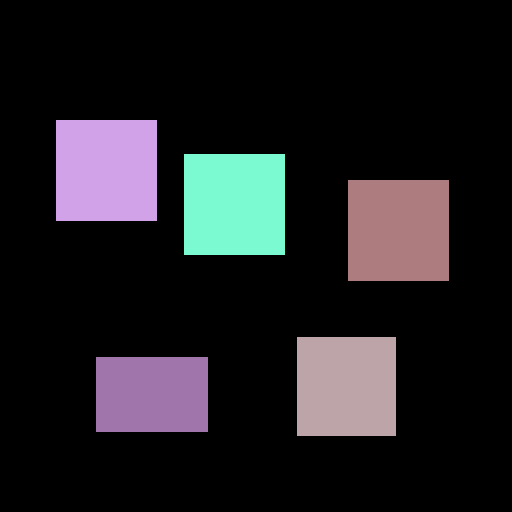rectangle: (96, 357, 207, 431)
square: (348, 180, 448, 280), (184, 154, 284, 254), (56, 120, 156, 220), (297, 337, 395, 435)
